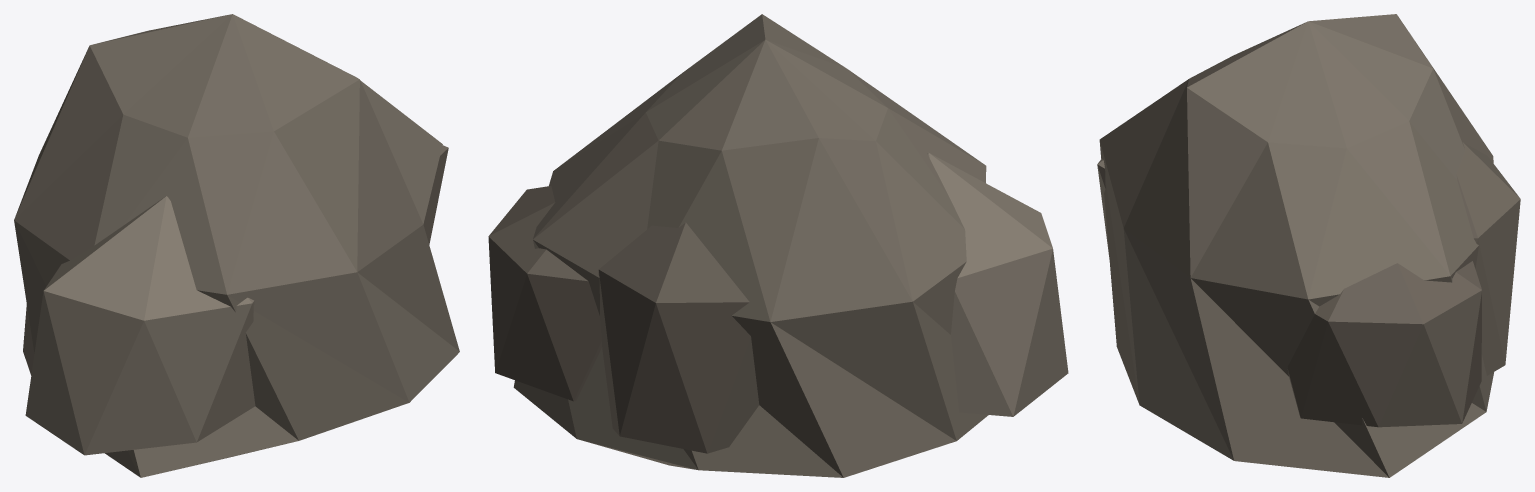
The model's file is boulder_big.glb.
The picture shows the model from 3 angles, left to right: view 1: azimuth 30°, elevation 25°; view 2: azimuth 150°, elevation 25°; view 3: azimuth 270°, elevation 25°; orthographic projection. The views are drawn at different scales.
Parts seen in each view (by area): view 1: boulder_big; view 2: boulder_big; view 3: boulder_big.
Boxes of the visible parts, box(x1,y1,x2,y2) form: boulder_big: box(14, 14, 459, 477); boulder_big: box(488, 14, 1068, 477); boulder_big: box(1097, 14, 1520, 477).
Bounding box in the file's own units: 2.24 × 1.75 × 1.81.
